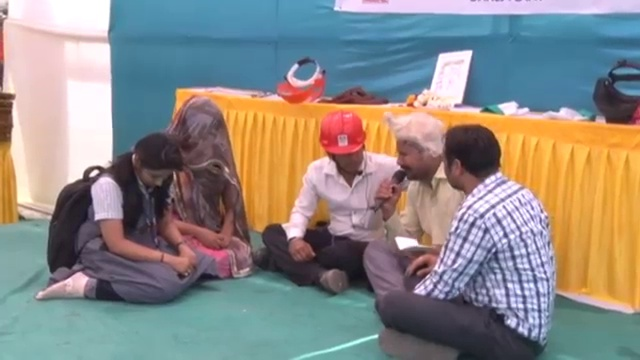helmet: (319, 107, 369, 156)
helmet_off: (442, 123, 505, 198), (168, 99, 228, 172), (121, 130, 188, 195), (392, 115, 447, 188)
helmet_on: (318, 102, 371, 180)
person: (362, 119, 560, 355), (39, 132, 210, 305), (258, 106, 404, 293), (364, 112, 471, 296), (153, 91, 254, 274)
